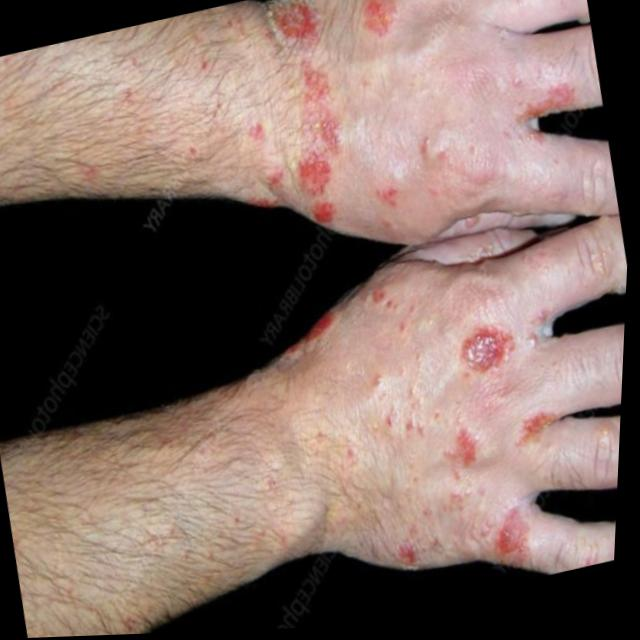Eczema: (314, 274, 612, 606), (239, 0, 543, 235)
